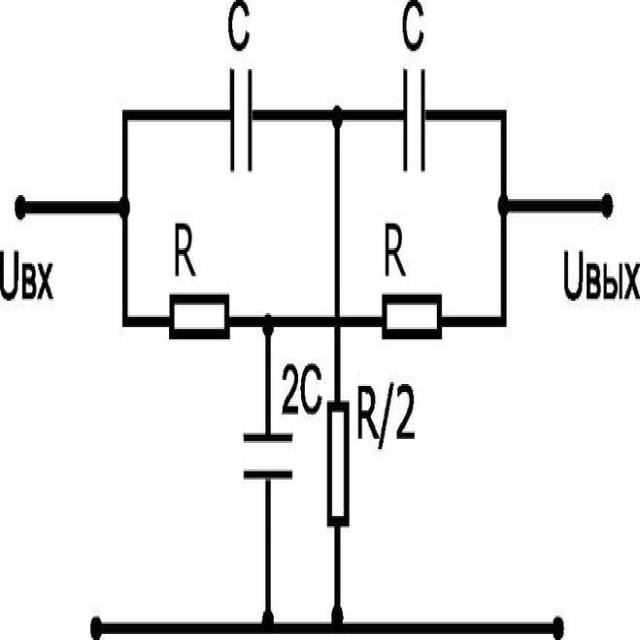cap: (398, 60, 432, 182), (224, 57, 258, 178), (236, 419, 296, 486)
net: (120, 103, 233, 128), (419, 100, 512, 130), (437, 307, 514, 334), (116, 304, 174, 329)
net_node: (103, 603, 549, 640), (250, 102, 404, 134), (331, 102, 346, 410), (225, 310, 385, 338), (117, 98, 134, 342), (26, 189, 137, 226), (493, 188, 595, 225), (497, 99, 511, 339), (260, 469, 276, 637), (260, 300, 276, 440), (330, 514, 343, 640)
res: (378, 285, 446, 348), (323, 394, 352, 536), (166, 286, 235, 344)
